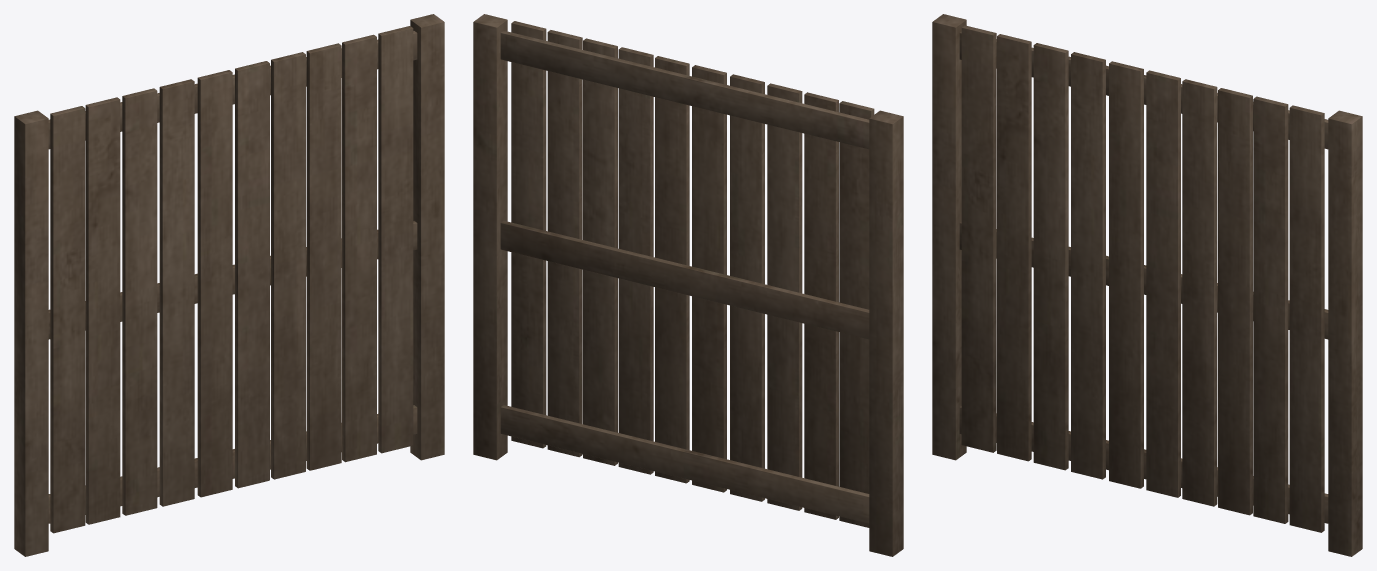
Rendered from wooden_slat_fence_f100a82c.fbx.
The picture shows the model from 3 angles, left to right: view 1: azimuth 30°, elevation 25°; view 2: azimuth 150°, elevation 25°; view 3: azimuth 330°, elevation 25°; orthographic projection.
Parts seen in each view (by area): view 1: wooden_slat_fence_f100a82c; view 2: wooden_slat_fence_f100a82c; view 3: wooden_slat_fence_f100a82c.
Boxes of the visible parts, x1,y1,x2,y2 form: wooden_slat_fence_f100a82c: (14,14,444,556); wooden_slat_fence_f100a82c: (473,14,903,556); wooden_slat_fence_f100a82c: (932,14,1362,556).
Bounding box in the file's own units: 1.51 × 1.49 × 0.068.
1 material, 1 textured.
